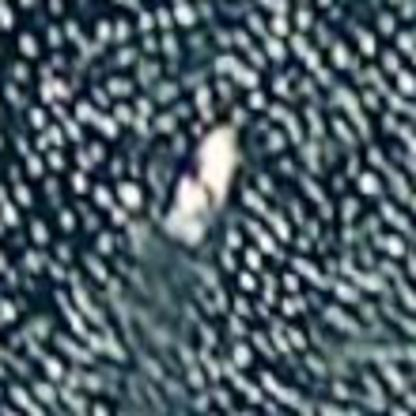ship: (146, 118, 268, 250)
